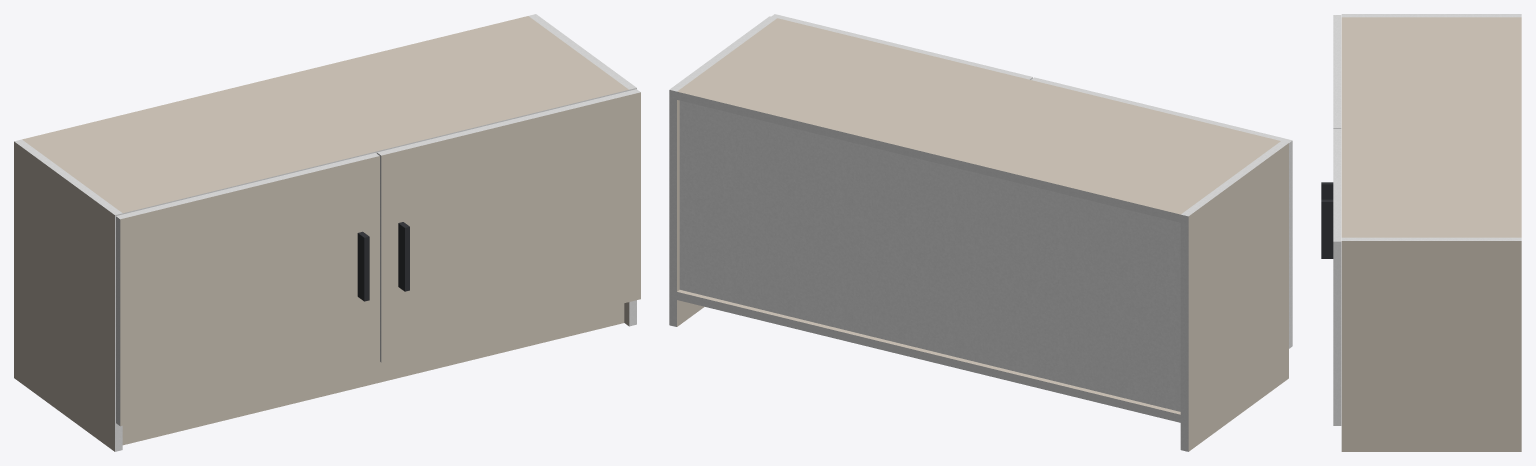
File: CAL-MED-short.glb
3 renders of one model, left to right at view 1: azimuth 30°, elevation 25°; view 2: azimuth 150°, elevation 25°; view 3: azimuth 270°, elevation 25°, orthographic. The views are drawn at different scales.
Visible parts, largest first — view 1: door-r:pbr, door-l:pbr, top:pbr, side-l:pbr, plinth:pbr, pull, door-l:sheet:eyJtIjoibWRmIiwic2lkZSI6ImVkZ2UtbG9uZyIsInNlZWQ, door-r:sheet:eyJtIjoibWRmIiwic2lkZSI6ImVkZ2UtbG9uZyIsInNlZWQ, door-l:sheet:eyJtIjoibWRmIiwic2lkZSI6ImVkZ2UtZW5kIiwic2VlZCI, top:sheet:eyJtIjoibWRmIiwic2lkZSI6ImVkZ2UtbG9uZyIsInNlZWQiOj, side-l:sheet:eyJtIjoibWRmIiwic2lkZSI6ImVkZ2UtZW5kIiwic2VlZCI, side-r:sheet:eyJtIjoibWRmIiwic2lkZSI6ImVkZ2UtZW5kIiwic2VlZCI; view 2: back:sheet:eyJtIjoibWRmIiwic2lkZSI6ImZhY2UiLCJzZWVkIjoxLCJ0a, top:pbr, side-l:pbr, top:sheet:eyJtIjoibWRmIiwic2lkZSI6ImVkZ2UtbG9uZyIsInNlZWQiOj, bottom:sheet:eyJtIjoibWRmIiwic2lkZSI6ImVkZ2UtbG9uZyIsInNlZWQ, side-l:sheet:eyJtIjoibWRmIiwic2lkZSI6ImVkZ2UtbG9uZyIsInNlZWQ, side-r:sheet:eyJtIjoibWRmIiwic2lkZSI6ImVkZ2UtbG9uZyIsInNlZWQ, bottom:pbr, door-r:sheet:eyJtIjoibWRmIiwic2lkZSI6ImVkZ2UtbG9uZyIsInNlZWQ, door-l:sheet:eyJtIjoibWRmIiwic2lkZSI6ImVkZ2UtbG9uZyIsInNlZWQ, side-r:pbr, side-l:sheet:eyJtIjoibWRmIiwic2lkZSI6ImVkZ2UtZW5kIiwic2VlZCI (+2 smaller); view 3: top:pbr, side-r:pbr, door-r:sheet:eyJtIjoibWRmIiwic2lkZSI6ImVkZ2UtZW5kIiwic2VlZCI, door-r:sheet:eyJtIjoibWRmIiwic2lkZSI6ImVkZ2UtbG9uZyIsInNlZWQ, door-l:sheet:eyJtIjoibWRmIiwic2lkZSI6ImVkZ2UtbG9uZyIsInNlZWQ, pull, side-l:sheet:eyJtIjoibWRmIiwic2lkZSI6ImVkZ2UtZW5kIiwic2VlZCI, side-r:sheet:eyJtIjoibWRmIiwic2lkZSI6ImVkZ2UtZW5kIiwic2VlZCI.
Part boxes in pixels (box(x1,y1,x2,y2)): door-r:pbr: box(381, 92, 640, 362); door-l:pbr: box(120, 156, 379, 425); top:pbr: box(22, 16, 628, 213); side-l:pbr: box(14, 141, 114, 451); plinth:pbr: box(122, 303, 624, 445); pull: box(357, 222, 409, 301); door-l:sheet:eyJtIjoibWRmIiwic2lkZSI6ImVkZ2UtbG9uZyIsInNlZWQ: box(116, 153, 379, 219); door-r:sheet:eyJtIjoibWRmIiwic2lkZSI6ImVkZ2UtbG9uZyIsInNlZWQ: box(377, 89, 640, 155); door-l:sheet:eyJtIjoibWRmIiwic2lkZSI6ImVkZ2UtZW5kIiwic2VlZCI: box(116, 216, 120, 425); top:sheet:eyJtIjoibWRmIiwic2lkZSI6ImVkZ2UtbG9uZyIsInNlZWQiOj: box(122, 90, 629, 214); side-l:sheet:eyJtIjoibWRmIiwic2lkZSI6ImVkZ2UtZW5kIiwic2VlZCI: box(14, 139, 122, 214); side-r:sheet:eyJtIjoibWRmIiwic2lkZSI6ImVkZ2UtZW5kIiwic2VlZCI: box(529, 14, 636, 89); back:sheet:eyJtIjoibWRmIiwic2lkZSI6ImZhY2UiLCJzZWVkIjoxLCJ0a: box(679, 100, 1180, 411); top:pbr: box(677, 18, 1280, 214); side-l:pbr: box(1188, 143, 1288, 451); top:sheet:eyJtIjoibWRmIiwic2lkZSI6ImVkZ2UtbG9uZyIsInNlZWQiOj: box(677, 91, 1180, 222); bottom:sheet:eyJtIjoibWRmIiwic2lkZSI6ImVkZ2UtbG9uZyIsInNlZWQ: box(677, 292, 1180, 422); side-l:sheet:eyJtIjoibWRmIiwic2lkZSI6ImVkZ2UtbG9uZyIsInNlZWQ: box(1180, 214, 1188, 451); side-r:sheet:eyJtIjoibWRmIiwic2lkZSI6ImVkZ2UtbG9uZyIsInNlZWQ: box(669, 90, 676, 326); bottom:pbr: box(677, 290, 1180, 414); door-r:sheet:eyJtIjoibWRmIiwic2lkZSI6ImVkZ2UtbG9uZyIsInNlZWQ: box(771, 14, 1032, 79); door-l:sheet:eyJtIjoibWRmIiwic2lkZSI6ImVkZ2UtbG9uZyIsInNlZWQ: box(1031, 77, 1292, 142); side-r:pbr: box(677, 100, 704, 326); side-l:sheet:eyJtIjoibWRmIiwic2lkZSI6ImVkZ2UtZW5kIiwic2VlZCI: box(1181, 141, 1288, 216); top:pbr: box(1341, 17, 1521, 237); side-r:pbr: box(1341, 241, 1521, 451); door-r:sheet:eyJtIjoibWRmIiwic2lkZSI6ImVkZ2UtZW5kIiwic2VlZCI: box(1333, 241, 1341, 425); door-r:sheet:eyJtIjoibWRmIiwic2lkZSI6ImVkZ2UtbG9uZyIsInNlZWQ: box(1333, 128, 1341, 241); door-l:sheet:eyJtIjoibWRmIiwic2lkZSI6ImVkZ2UtbG9uZyIsInNlZWQ: box(1333, 15, 1341, 127); pull: box(1321, 182, 1333, 258); side-l:sheet:eyJtIjoibWRmIiwic2lkZSI6ImVkZ2UtZW5kIiwic2VlZCI: box(1341, 14, 1521, 17); side-r:sheet:eyJtIjoibWRmIiwic2lkZSI6ImVkZ2UtZW5kIiwic2VlZCI: box(1341, 237, 1521, 240).
Bounding box in the file's own units: 1.2 × 0.52 × 0.4468.
Materials: 34 (23 with a texture image).
